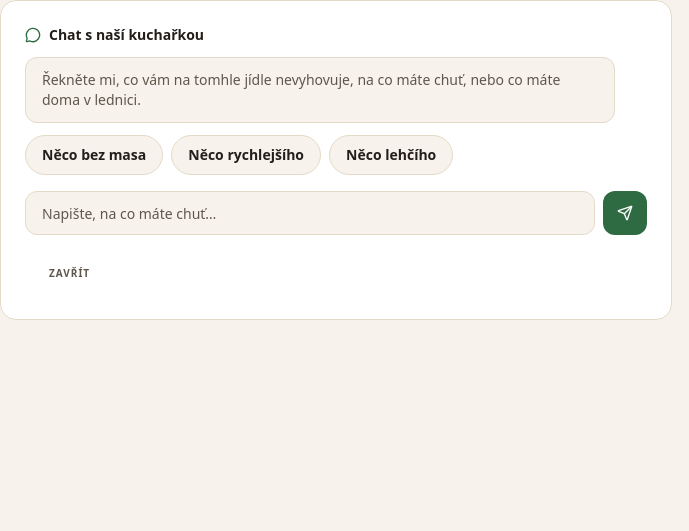
Scenario: RecipeRefineChat › choosing between alternatives › a single candidate keeps the unambiguous singular heading and label
Type "něco lehčího" into the field with placeholder "Napište, na co máte chuť…" at {"x": 310, "y": 213}, box top-left (25, 191), bottom-right (595, 235)
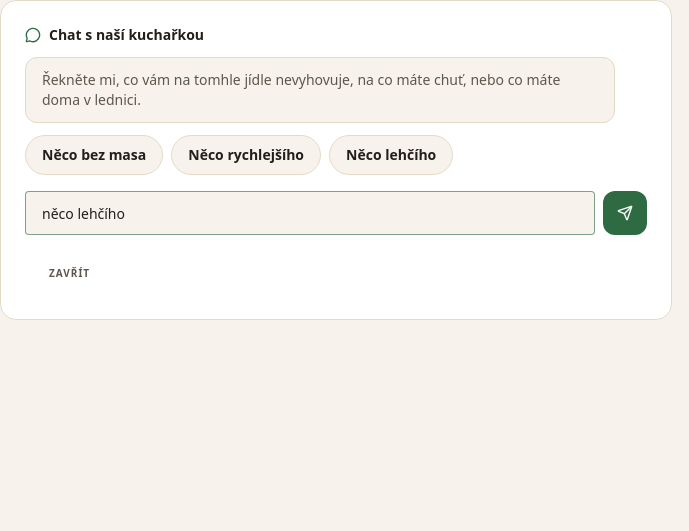
Click the button named "Odeslat" at {"x": 625, "y": 213}, box top-left (603, 191), bottom-right (647, 235)
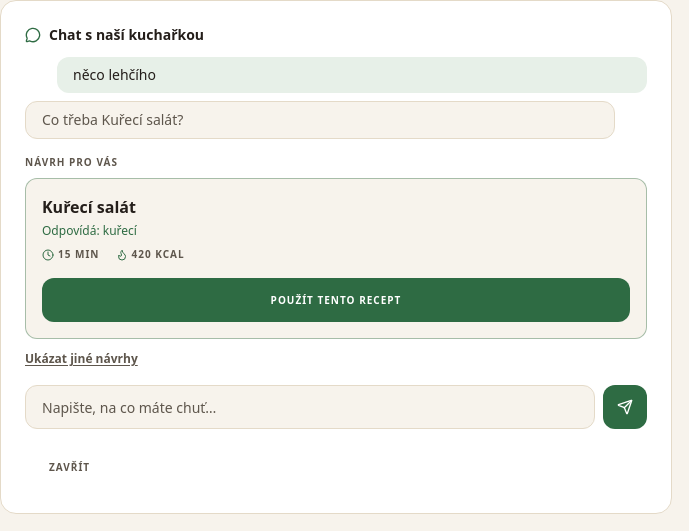
Now the text "Návrh pro vás" is shown, box top-left (25, 155), bottom-right (118, 169)
Now the button "Použít tento recept" is shown, box top-left (42, 278), bottom-right (630, 322)
